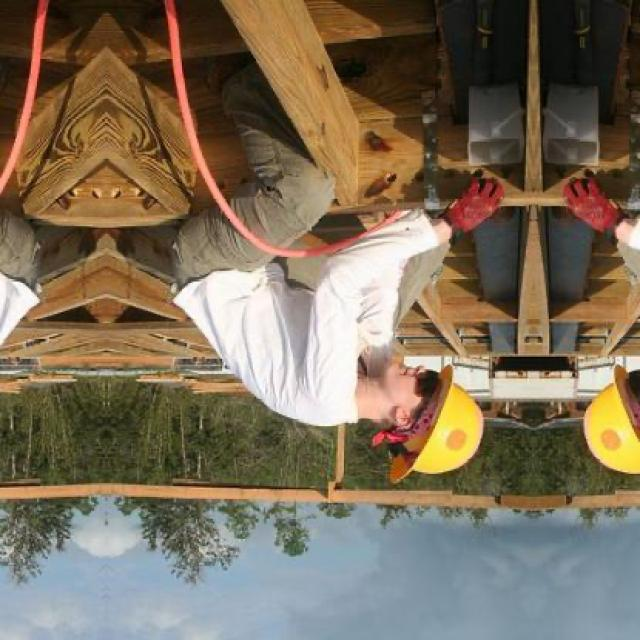con casco: (356, 300, 501, 482)
